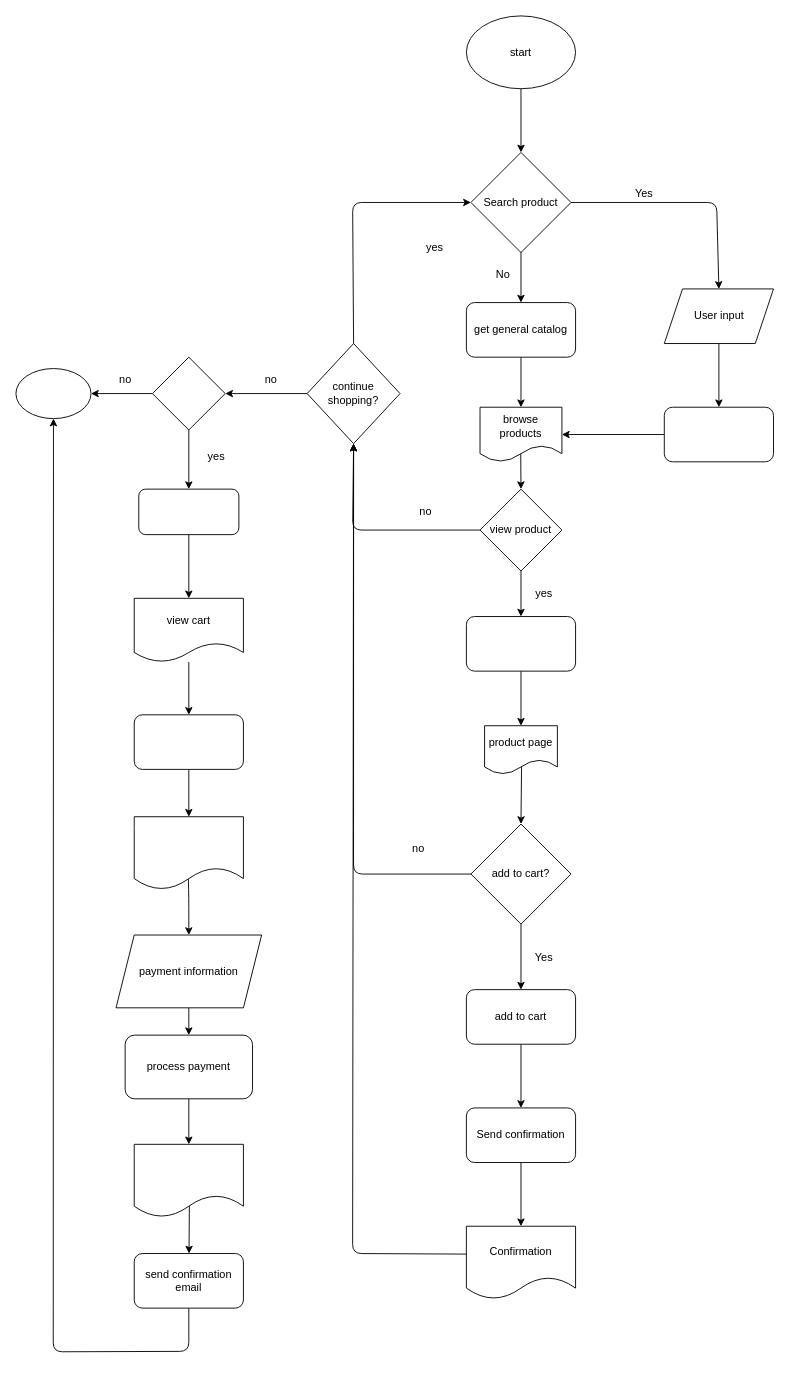
Image size: 790x1375. Some labels were removed from this diagram. Each missing label, with the box of its shape:
checkout: (152, 356, 225, 430)
end: (15, 368, 91, 419)
get user specified products: (663, 406, 774, 462)
load cart: (138, 488, 239, 535)
load payment screen: (133, 714, 243, 769)
Load product page: (465, 616, 576, 671)
order confirmation: (133, 1143, 243, 1217)
payment screen: (133, 816, 243, 890)
